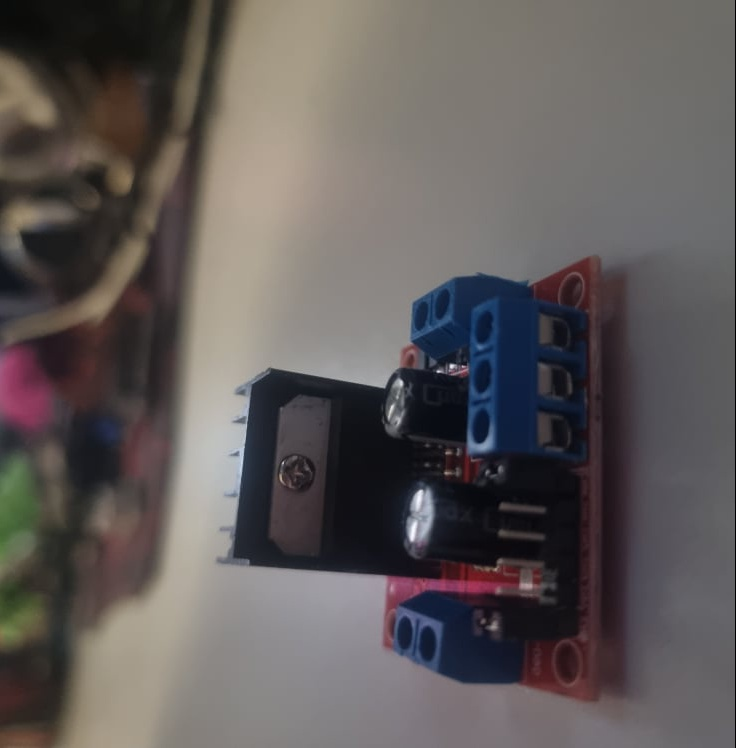MOTOR: (214, 253, 606, 700)
